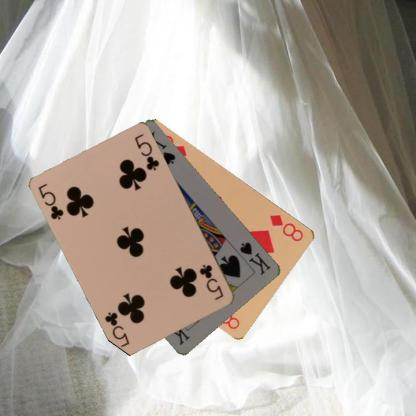5c: (36, 181, 65, 221), (197, 262, 225, 302)
8d: (268, 212, 306, 244)
Ks: (238, 239, 272, 277)
